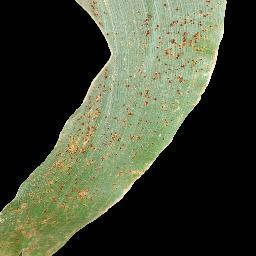Corn_Common_Rust: (78, 48, 223, 103), (70, 0, 231, 47), (0, 206, 114, 256), (52, 104, 198, 142), (30, 141, 172, 176), (12, 175, 138, 206)
